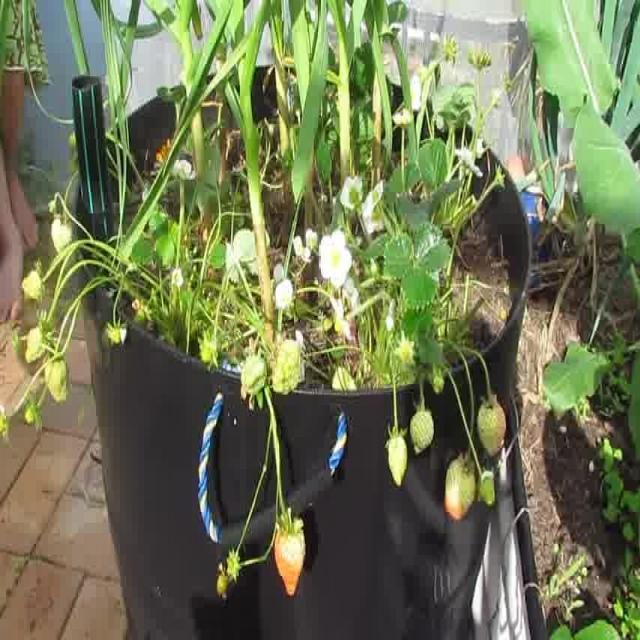Fruta sana: (274, 508, 306, 598), (477, 395, 506, 457), (272, 339, 302, 394), (25, 310, 55, 364), (44, 344, 70, 402), (21, 256, 49, 300), (241, 352, 270, 393), (226, 544, 243, 586), (332, 367, 358, 390), (478, 471, 494, 506), (24, 396, 42, 427), (0, 405, 13, 438), (216, 570, 228, 598), (66, 128, 80, 150), (202, 346, 212, 364), (323, 318, 333, 332), (48, 200, 56, 216), (72, 160, 78, 172)
Moho gris: (444, 458, 476, 519), (385, 426, 408, 486), (410, 408, 435, 454)
Oído: (51, 192, 72, 257)
